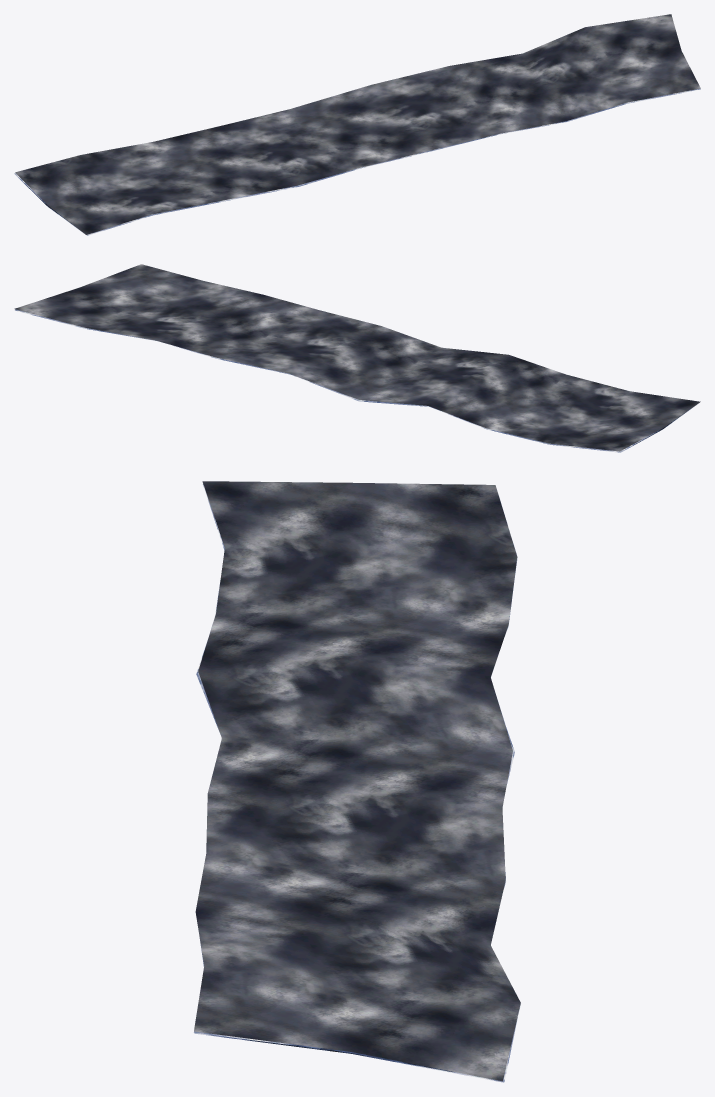
Rendered from LONE_MOUNTAIN_WATERFALLS_MAINWATER_TREASURY04.fbx.
The picture shows the model from 3 angles, top to bottom: view 1: azimuth 30°, elevation 25°; view 2: azimuth 150°, elevation 25°; view 3: azimuth 270°, elevation 25°; orthographic projection. The views are drawn at different scales.
Visible parts, largest first — view 1: LONE_MOUNTAIN_WATERFALLS_MAINWATER_TREASURY04; view 2: LONE_MOUNTAIN_WATERFALLS_MAINWATER_TREASURY04; view 3: LONE_MOUNTAIN_WATERFALLS_MAINWATER_TREASURY04.
Boxes of the visible parts, x1,y1,x2,y2 form: LONE_MOUNTAIN_WATERFALLS_MAINWATER_TREASURY04: [14, 14, 700, 235]; LONE_MOUNTAIN_WATERFALLS_MAINWATER_TREASURY04: [14, 264, 700, 452]; LONE_MOUNTAIN_WATERFALLS_MAINWATER_TREASURY04: [194, 481, 520, 1082].
Size of the model in its own units: 149208 by 2073 by 34571.
Materials: 2 (2 with a texture image).
